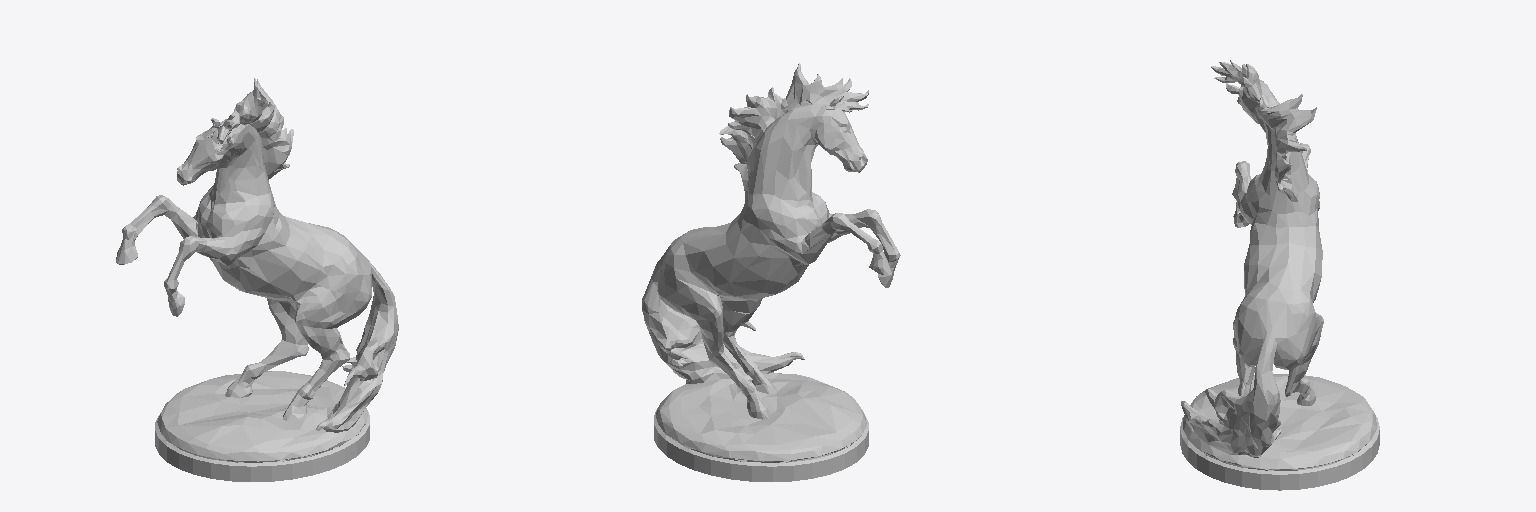
Rendered from full_horse_statue_01_1k_LOD_2.obj.
3 renders of one model, left to right at view 1: azimuth 30°, elevation 25°; view 2: azimuth 150°, elevation 25°; view 3: azimuth 270°, elevation 25°, orthographic.
Visible parts, largest first — view 1: "horse_statue_01_1k_LOD_2"; view 2: "horse_statue_01_1k_LOD_2"; view 3: "horse_statue_01_1k_LOD_2".
Boxes of the visible parts, x1=… form: "horse_statue_01_1k_LOD_2": x1=116, y1=78, x2=398, y2=481; "horse_statue_01_1k_LOD_2": x1=642, y1=63, x2=900, y2=481; "horse_statue_01_1k_LOD_2": x1=1180, y1=60, x2=1379, y2=490.
Bounding box in the file's own units: 0.1639 × 0.2199 × 0.1078.